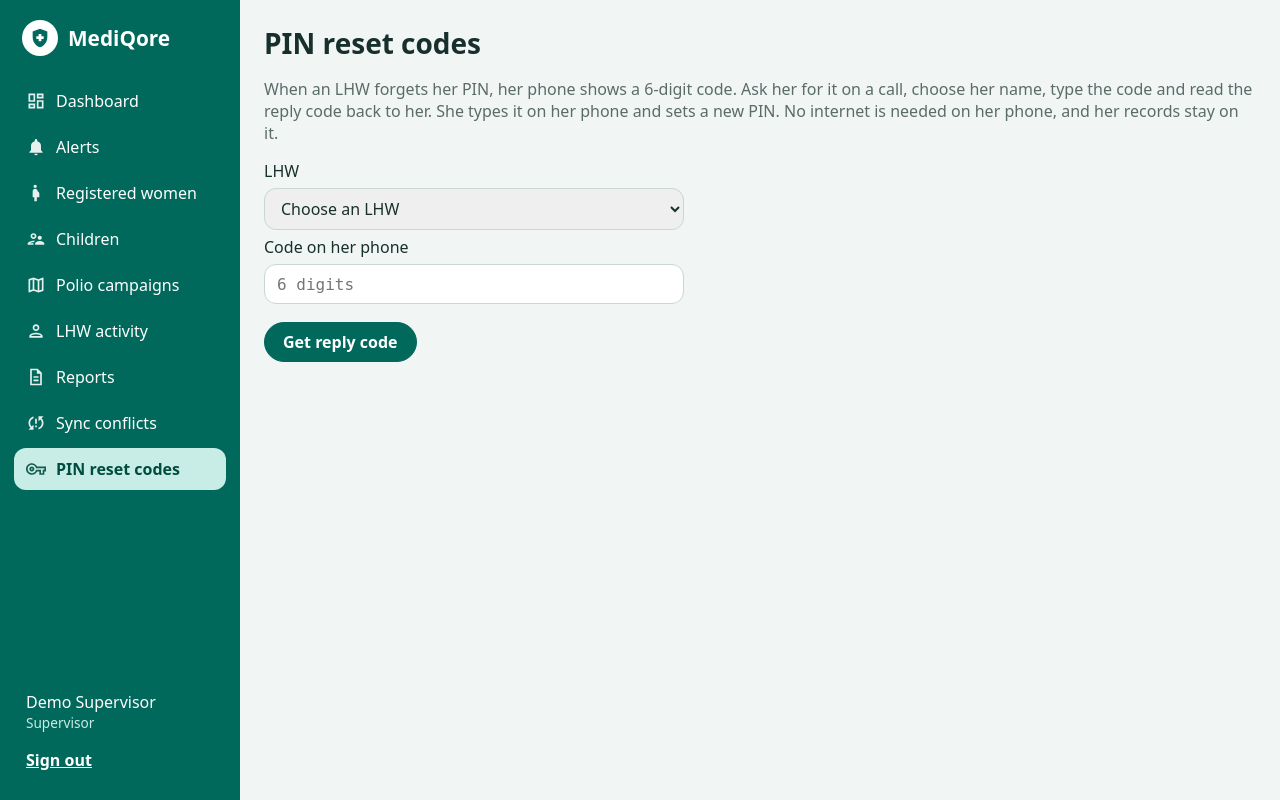
PIN reset codes (M1 FE-2) › gives the supervisor the reply code for the code on the phone, once
The width and height of the screenshot is (1280, 800).
Select "LHW-00007 · Sana Iqbal" in the dropdown labelled "LHW": (474, 209) left=264, top=188, right=684, bottom=230
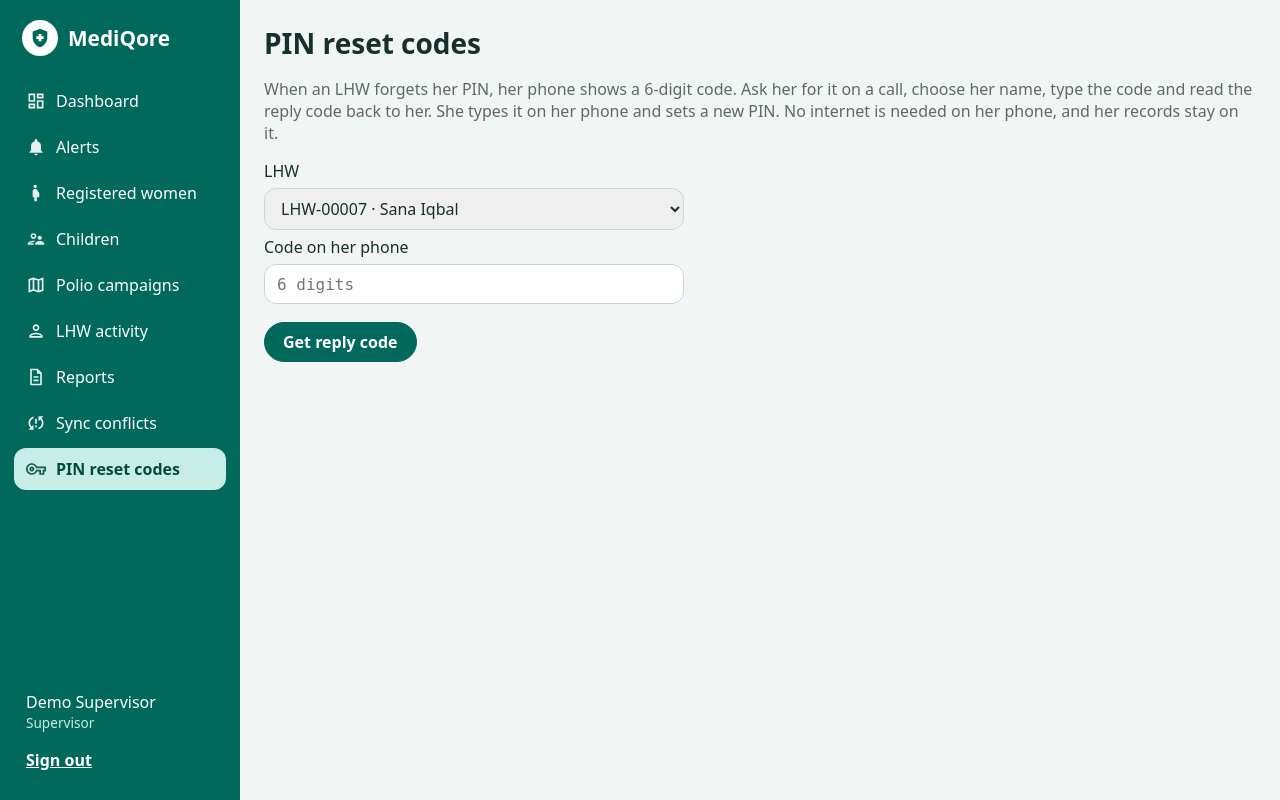
In the field labelled "Code on her phone": (474, 284) left=264, top=264, right=684, bottom=304, type "483 917"
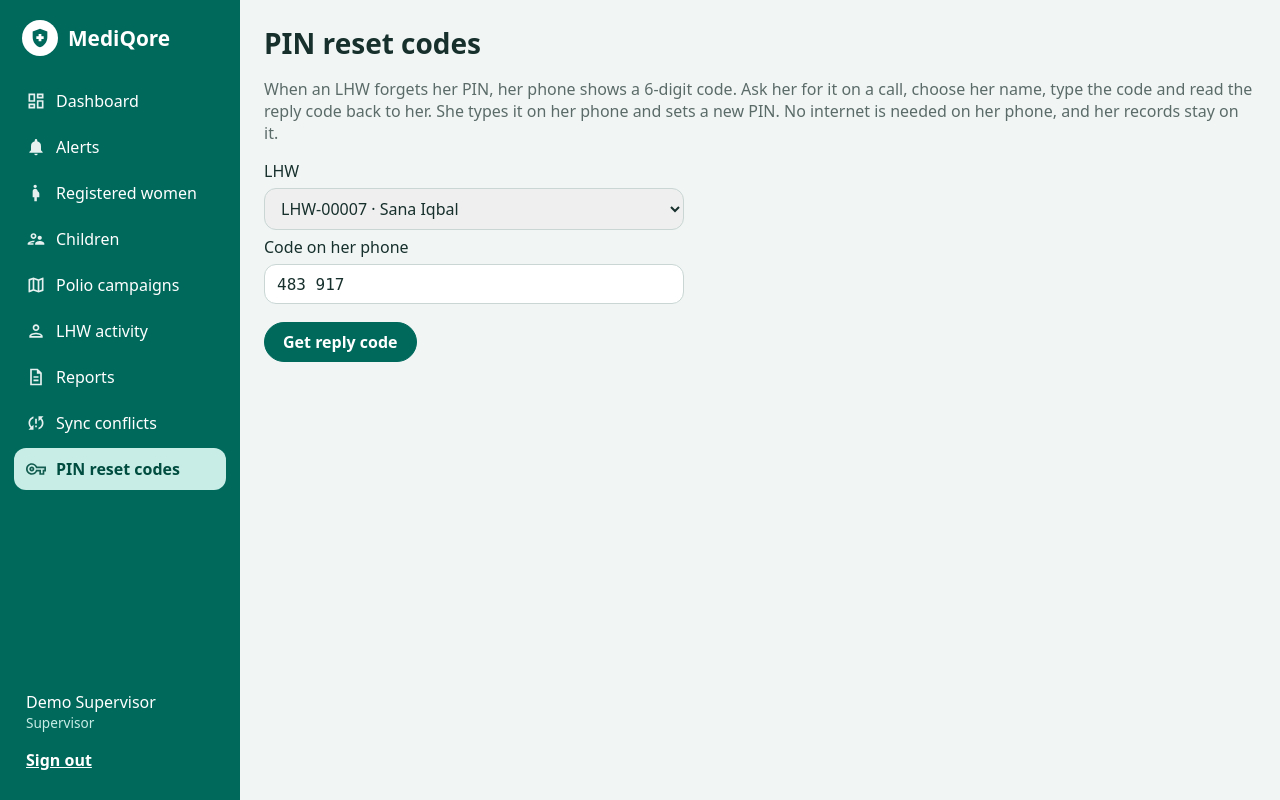
Click the button "Get reply code": (340, 342) left=264, top=322, right=416, bottom=362
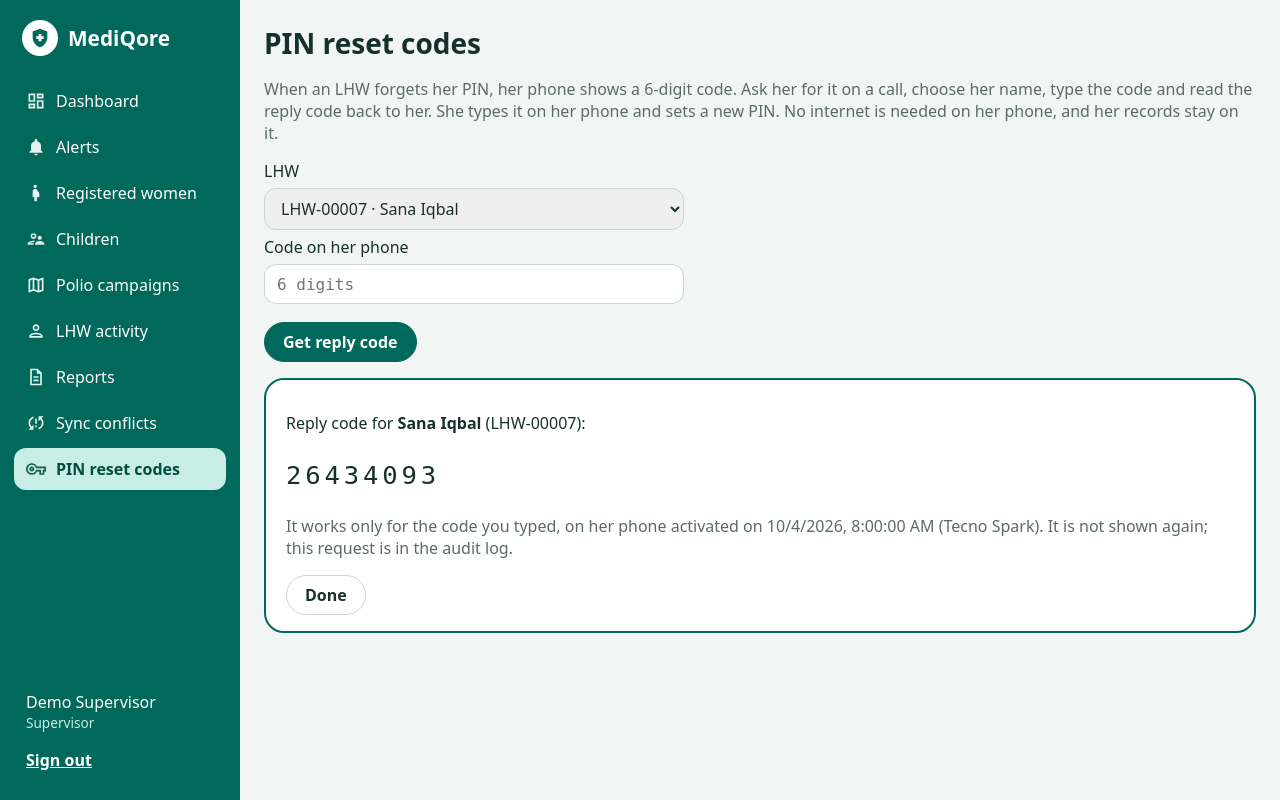
expect the text "26434093" is shown: met, box left=286, top=460, right=440, bottom=490
expect the text "Tecno Spark" is shown: met, box left=934, top=515, right=1039, bottom=537
Click the button "Done": (326, 595) left=286, top=575, right=366, bottom=615
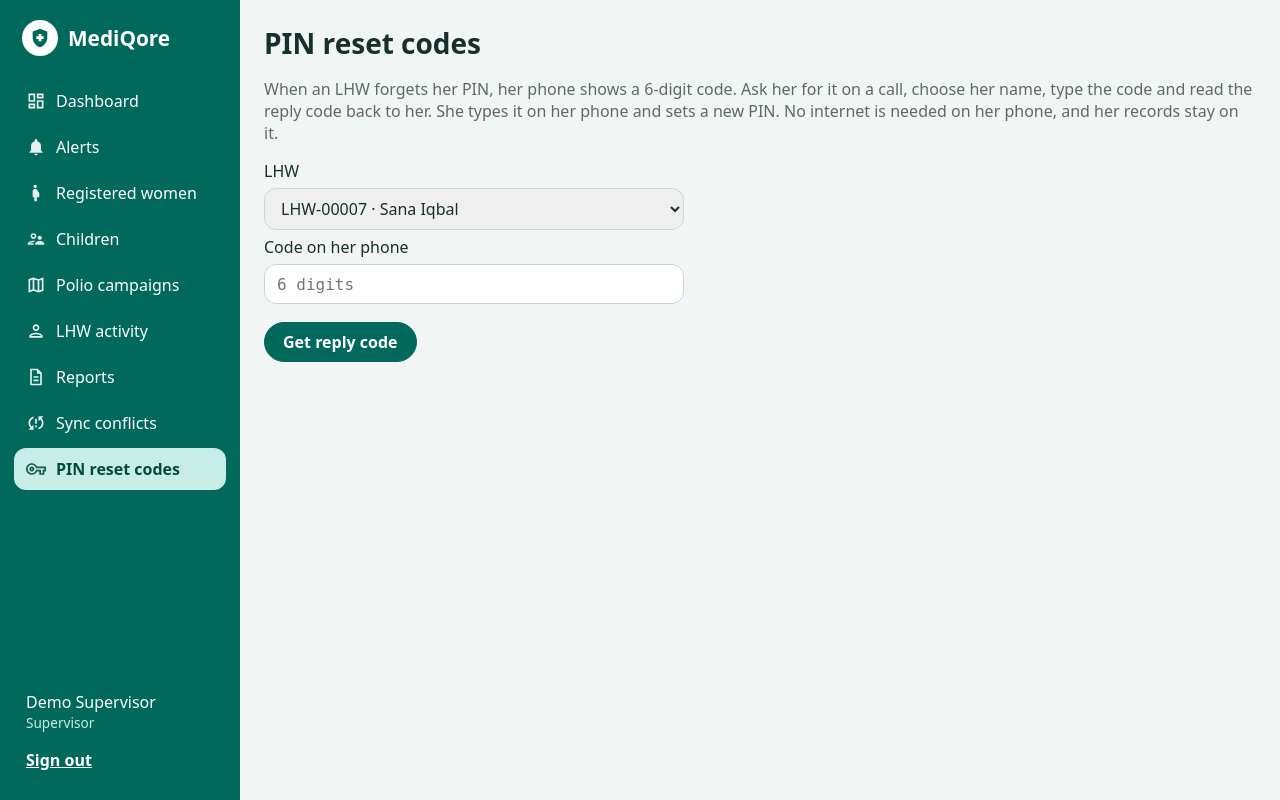
expect the text "26434093" is gone: met
